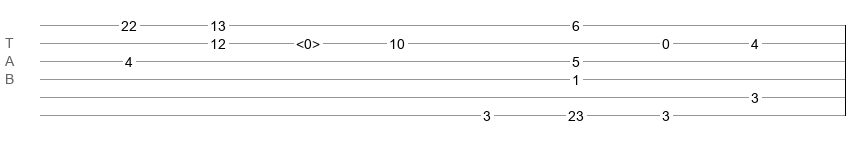0: (662, 36, 670, 46)
1: (572, 72, 580, 82)
10: (389, 36, 405, 46)
12: (210, 36, 226, 46)
13: (210, 18, 226, 28)
22: (121, 18, 137, 28)
23: (568, 108, 584, 118)
3: (483, 108, 491, 118), (662, 108, 670, 118), (751, 90, 759, 100)
4: (125, 54, 133, 64), (751, 36, 759, 46)
5: (572, 54, 580, 64)
6: (572, 18, 580, 28)
harmonic: (296, 36, 320, 46)
